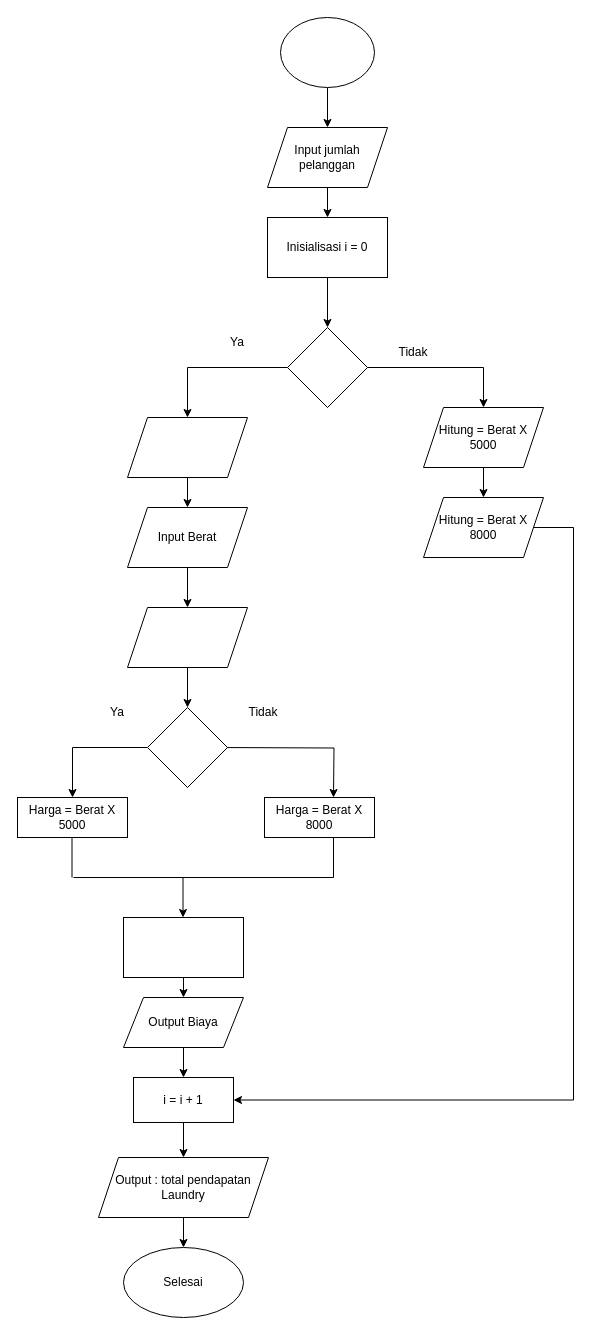
Some shapes in this 599 by 1335 pixel diagram are drawn without their labels. The shapes that lost their labels are listed below. From the top down, each one's centre as x and y in pixels, then its label:
(x=327, y=52): Mulai
(x=327, y=367): i < jumlah?
(x=187, y=447): Input Nama
(x=187, y=637): Input layanan
(x=187, y=747): Layanan = 1?
(x=183, y=947): Total ++ Harga
